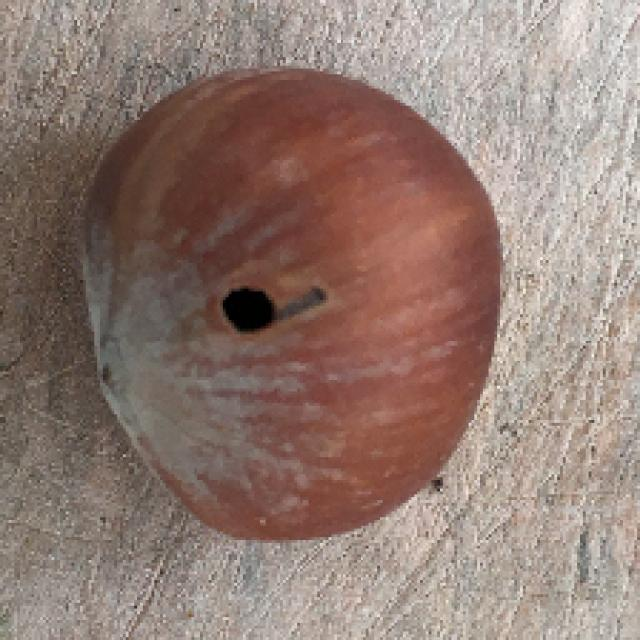damagedHazelnut: (52, 56, 518, 555)
